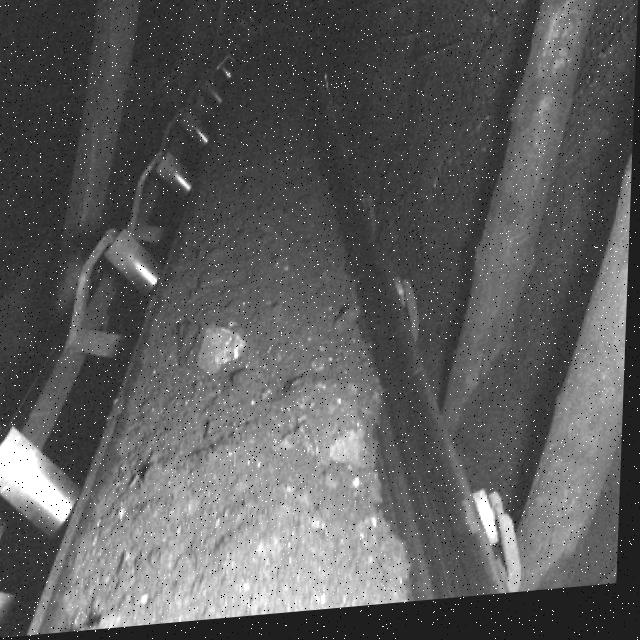large_sized_coal: (179, 312, 253, 382)
